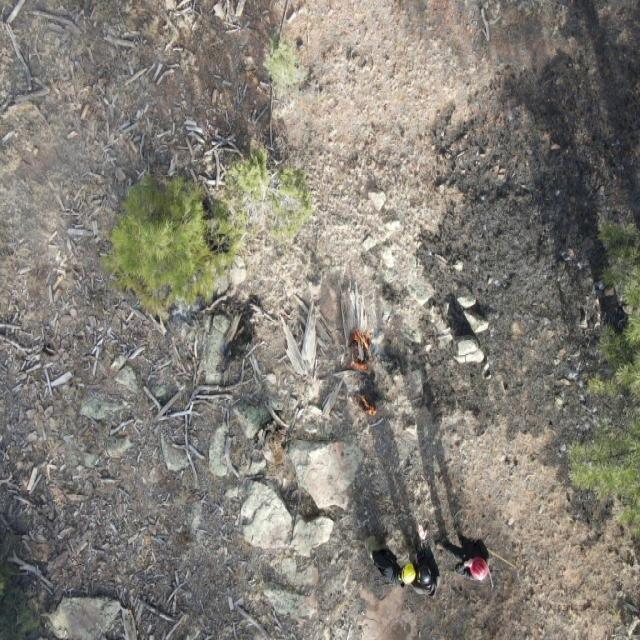fire: (348, 328, 374, 373), (353, 394, 378, 418)
smoke: (0, 0, 147, 306), (242, 224, 409, 408)
